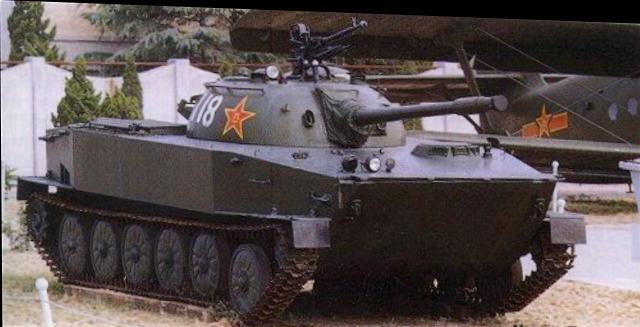tank: (23, 46, 559, 308)
